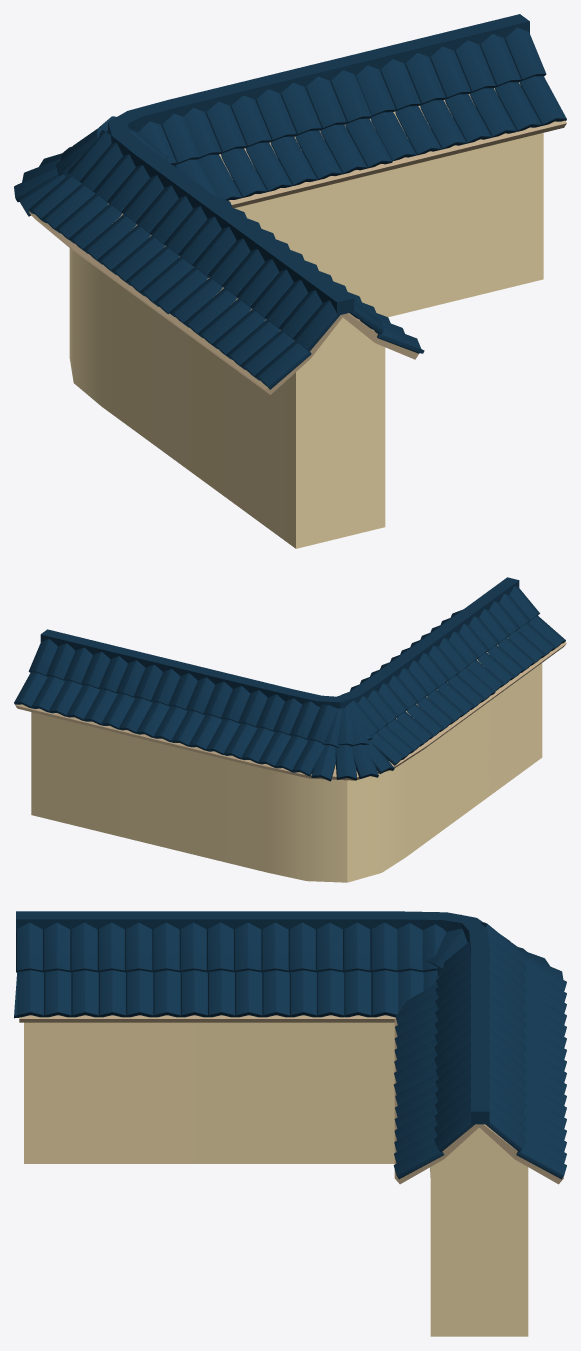
File: Wall_Corner.fbx
3 renders of one model, top to bottom at view 1: azimuth 30°, elevation 25°; view 2: azimuth 150°, elevation 25°; view 3: azimuth 270°, elevation 25°, orthographic. The views are drawn at different scales.
Visible parts, largest first — view 1: Wall_Corner; view 2: Wall_Corner; view 3: Wall_Corner.
Boxes of the visible parts, x1,y1,x2,y2 form: Wall_Corner: [14, 14, 566, 548]; Wall_Corner: [14, 577, 566, 882]; Wall_Corner: [14, 911, 566, 1336].
Size of the model in its own units: 5671 by 2593 by 5692.
